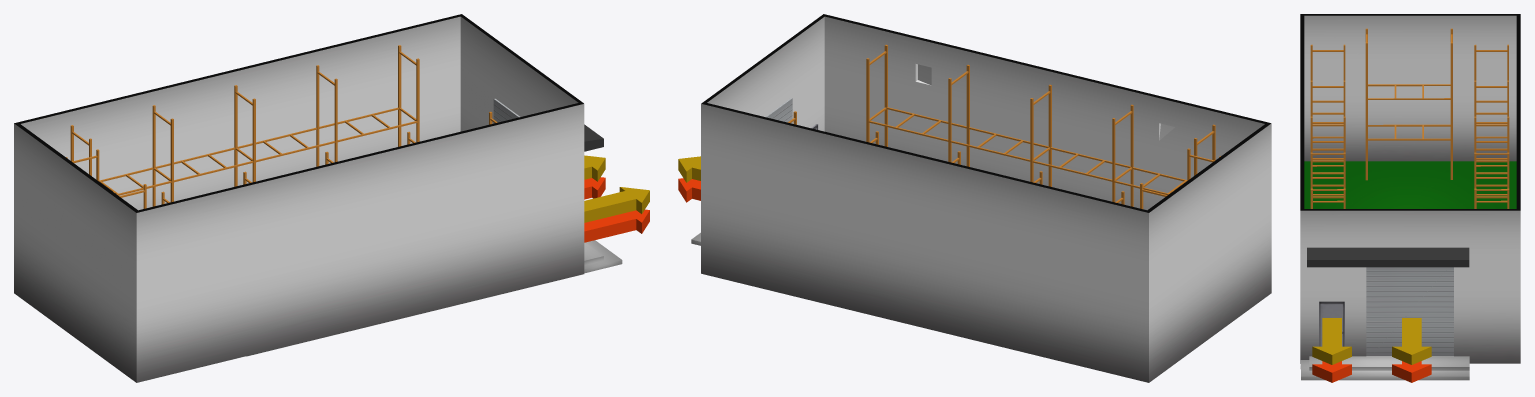
The model's file is soulbrain_T9-5-1F.glb.
The picture shows the model from 3 angles, left to right: view 1: azimuth 30°, elevation 25°; view 2: azimuth 150°, elevation 25°; view 3: azimuth 270°, elevation 25°; orthographic projection. The views are drawn at different scales.
Parts seen in each view (by area): view 1: Box871, T9-5-1F, arrow_Y_2_T9-5-1F, arrow_R_2_T9-5-1F, Box892; view 2: Box871, T9-5-1F, arrow_Y_1_T9-5-1F; view 3: Box871, T9-5-1F, Box892, Box874, arrow_Y_1_T9-5-1F, arrow_Y_2_T9-5-1F, arrow_R_2_T9-5-1F, arrow_R_1_T9-5-1F.
Part boxes in pixels (x1=…): Box871: x1=14, y1=14, x2=584, y2=382; T9-5-1F: x1=66, y1=45, x2=519, y2=208; arrow_Y_2_T9-5-1F: x1=584, y1=187, x2=649, y2=222; arrow_R_2_T9-5-1F: x1=584, y1=209, x2=649, y2=242; Box892: x1=584, y1=240, x2=622, y2=273; Box871: x1=701, y1=14, x2=1271, y2=382; T9-5-1F: x1=765, y1=44, x2=1220, y2=209; arrow_Y_1_T9-5-1F: x1=678, y1=156, x2=700, y2=182; Box871: x1=1300, y1=14, x2=1520, y2=363; T9-5-1F: x1=1310, y1=28, x2=1509, y2=355; Box892: x1=1300, y1=161, x2=1516, y2=380; Box874: x1=1307, y1=247, x2=1469, y2=267; arrow_Y_1_T9-5-1F: x1=1392, y1=318, x2=1431, y2=364; arrow_Y_2_T9-5-1F: x1=1312, y1=318, x2=1351, y2=364; arrow_R_2_T9-5-1F: x1=1312, y1=361, x2=1351, y2=382; arrow_R_1_T9-5-1F: x1=1392, y1=361, x2=1431, y2=382.
Size of the model in its own units: 19.63 by 6.02 by 7.85.
10 materials, 6 textured.
